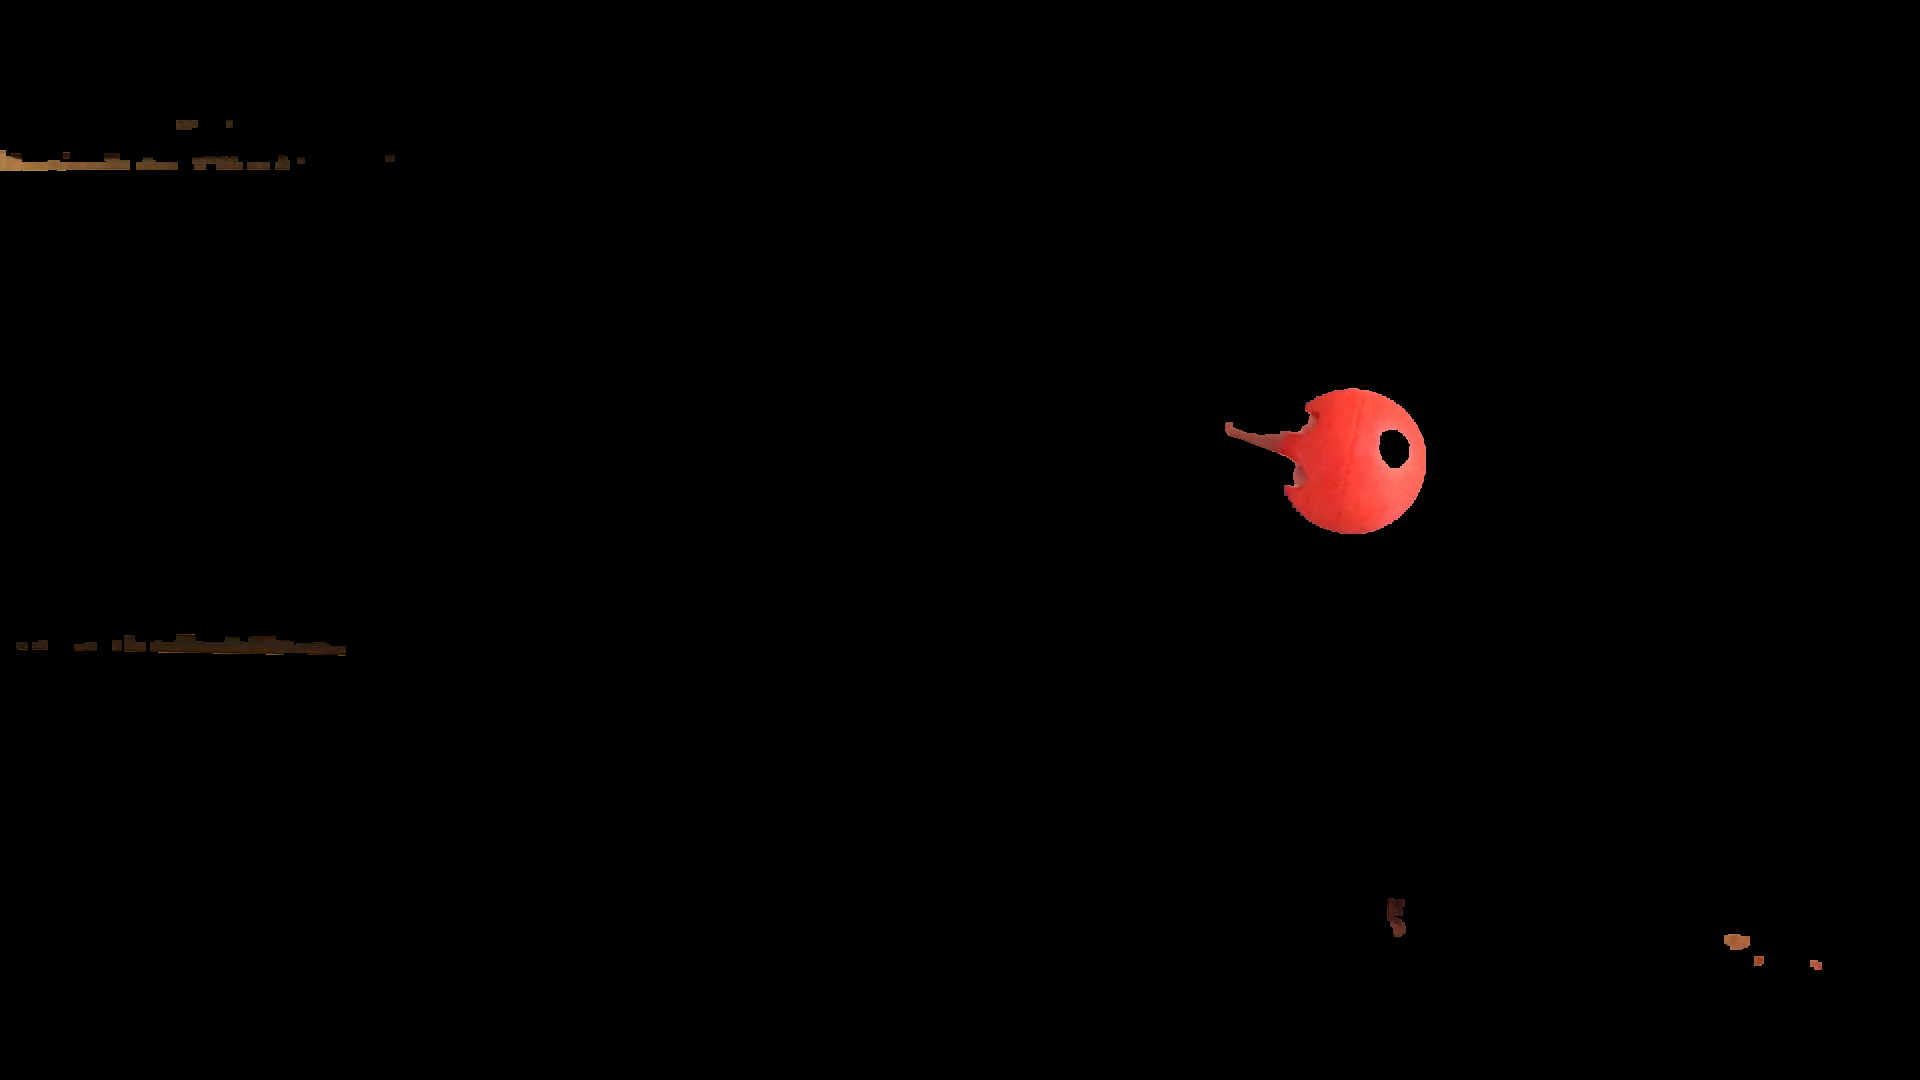Ball: (1279, 384, 1425, 534)
